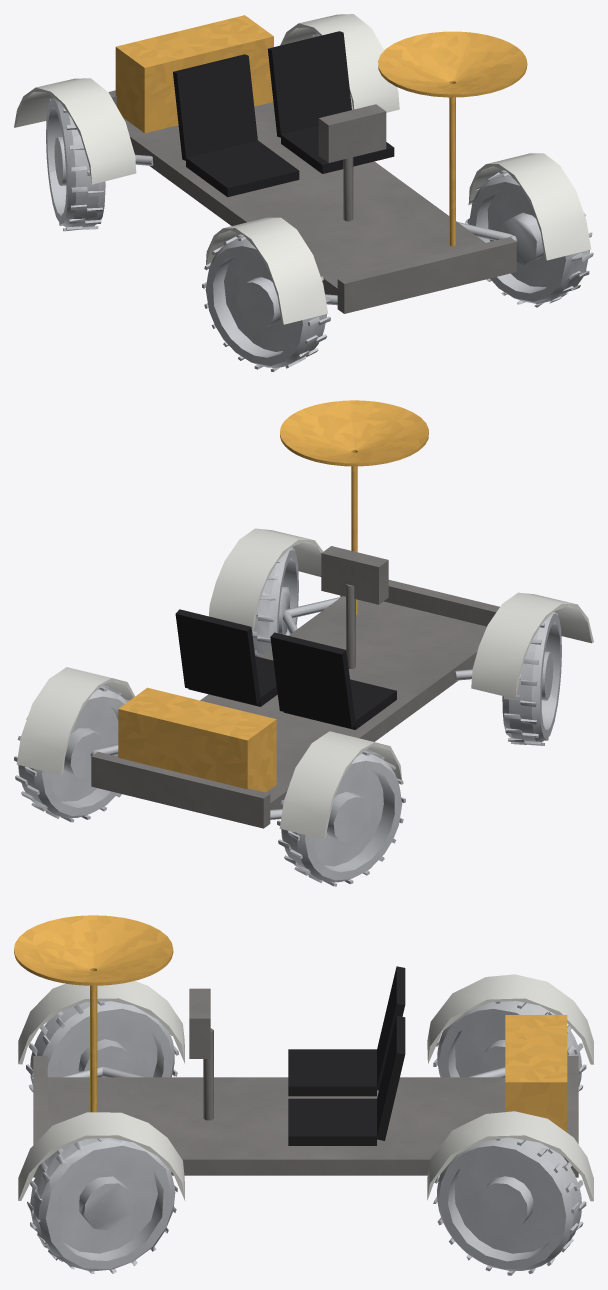
Rendered from rover02_lrv_steer_left.glb.
3 views of the same model, one above another, from view 1: azimuth 30°, elevation 25°; view 2: azimuth 150°, elevation 25°; view 3: azimuth 270°, elevation 25° (orthographic). The views are drawn at different scales.
Parts seen in each view (by area): view 1: chassis, fenders, seats, tool_pallet, wheel_3, hga_umbrella, wheel_1, wheel_4, console, suspension_arms; view 2: chassis, fenders, seats, tool_pallet, wheel_4, hga_umbrella, wheel_2, wheel_3, console, wheel_1, suspension_arms; view 3: chassis, fenders, wheel_2, wheel_1, seats, hga_umbrella, wheel_3, tool_pallet, wheel_4, console, suspension_arms.
Boxes of the visible parts, bbox=[...] form: chassis: bbox=[108, 90, 516, 313]; fenders: bbox=[14, 14, 591, 324]; seats: bbox=[173, 31, 394, 197]; tool_pallet: bbox=[115, 15, 273, 133]; wheel_3: bbox=[202, 234, 330, 371]; hga_umbrella: bbox=[378, 31, 527, 246]; wheel_1: bbox=[465, 170, 593, 307]; wheel_4: bbox=[46, 97, 105, 231]; console: bbox=[318, 104, 386, 221]; suspension_arms: bbox=[135, 154, 517, 305]; chassis: bbox=[91, 580, 499, 828]; fenders: bbox=[16, 528, 593, 839]; seats: bbox=[175, 609, 396, 729]; tool_pallet: bbox=[118, 687, 276, 792]; wheel_4: bbox=[277, 749, 405, 886]; hga_umbrella: bbox=[280, 400, 428, 614]; wheel_2: bbox=[14, 684, 129, 822]; wheel_3: bbox=[502, 611, 561, 745]; console: bbox=[321, 546, 388, 668]; wheel_1: bbox=[252, 547, 298, 656]; suspension_arms: bbox=[90, 597, 472, 819]; chassis: bbox=[33, 1056, 578, 1177]; fenders: bbox=[18, 974, 593, 1201]; wheel_2: bbox=[433, 1137, 586, 1275]; wheel_1: bbox=[27, 1138, 177, 1273]; seats: bbox=[288, 966, 405, 1145]; hga_umbrella: bbox=[14, 915, 173, 1112]; wheel_3: bbox=[26, 1001, 178, 1092]; tool_pallet: bbox=[505, 1015, 567, 1132]; wheel_4: bbox=[433, 1001, 586, 1091]; console: bbox=[189, 988, 213, 1120]; suspension_arms: bbox=[60, 1066, 505, 1077].
Bounding box in the file's own units: 2.31 × 1.72 × 3.28.
5 materials, 3 textured.
